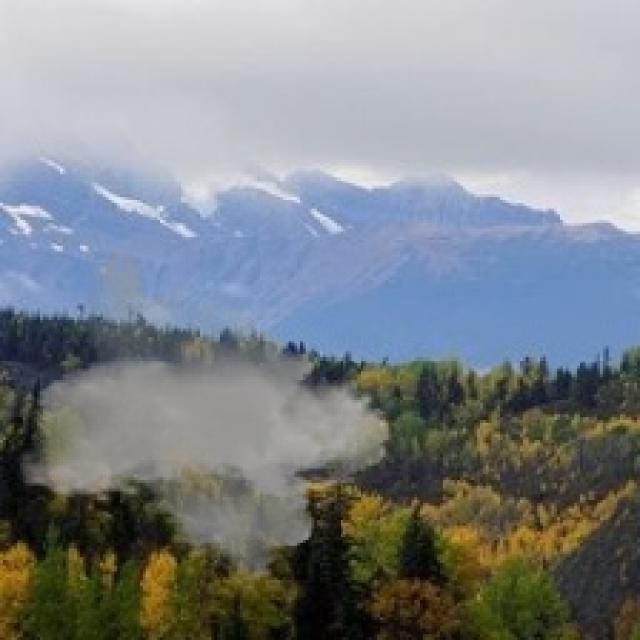Smoke: (17, 246, 392, 592)
